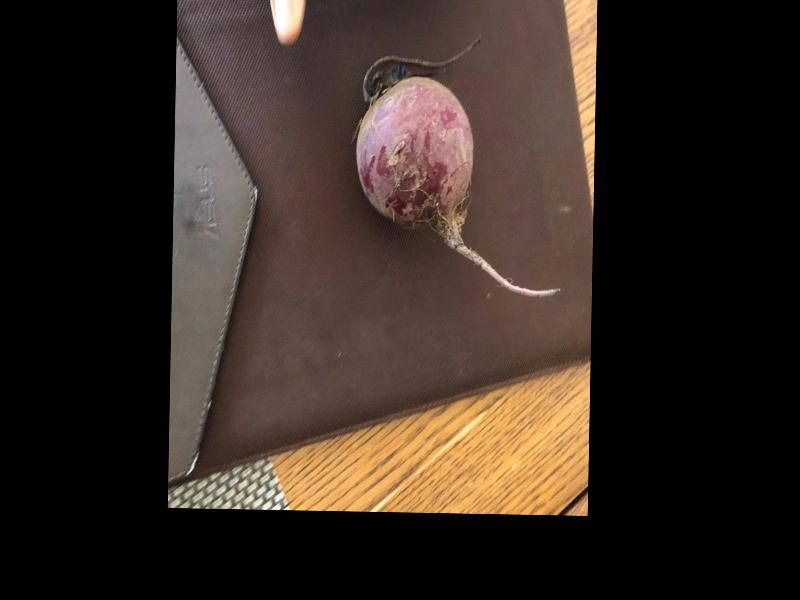Beet: (353, 35, 563, 297)
